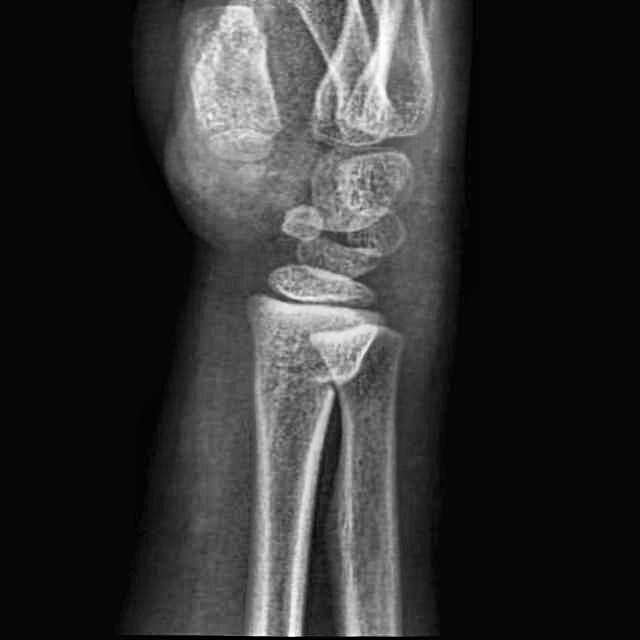Greenstick: (255, 352, 367, 420)
